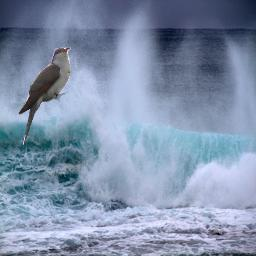Cuckoo: (18, 47, 71, 148)
